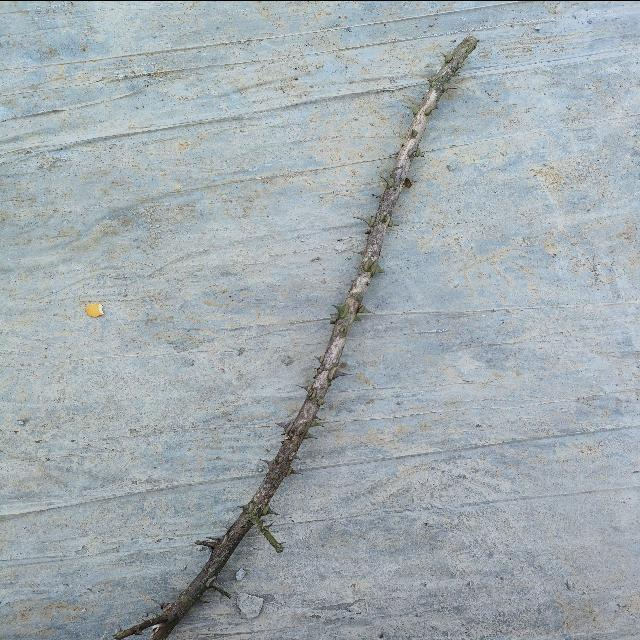branch: (114, 36, 476, 640)
